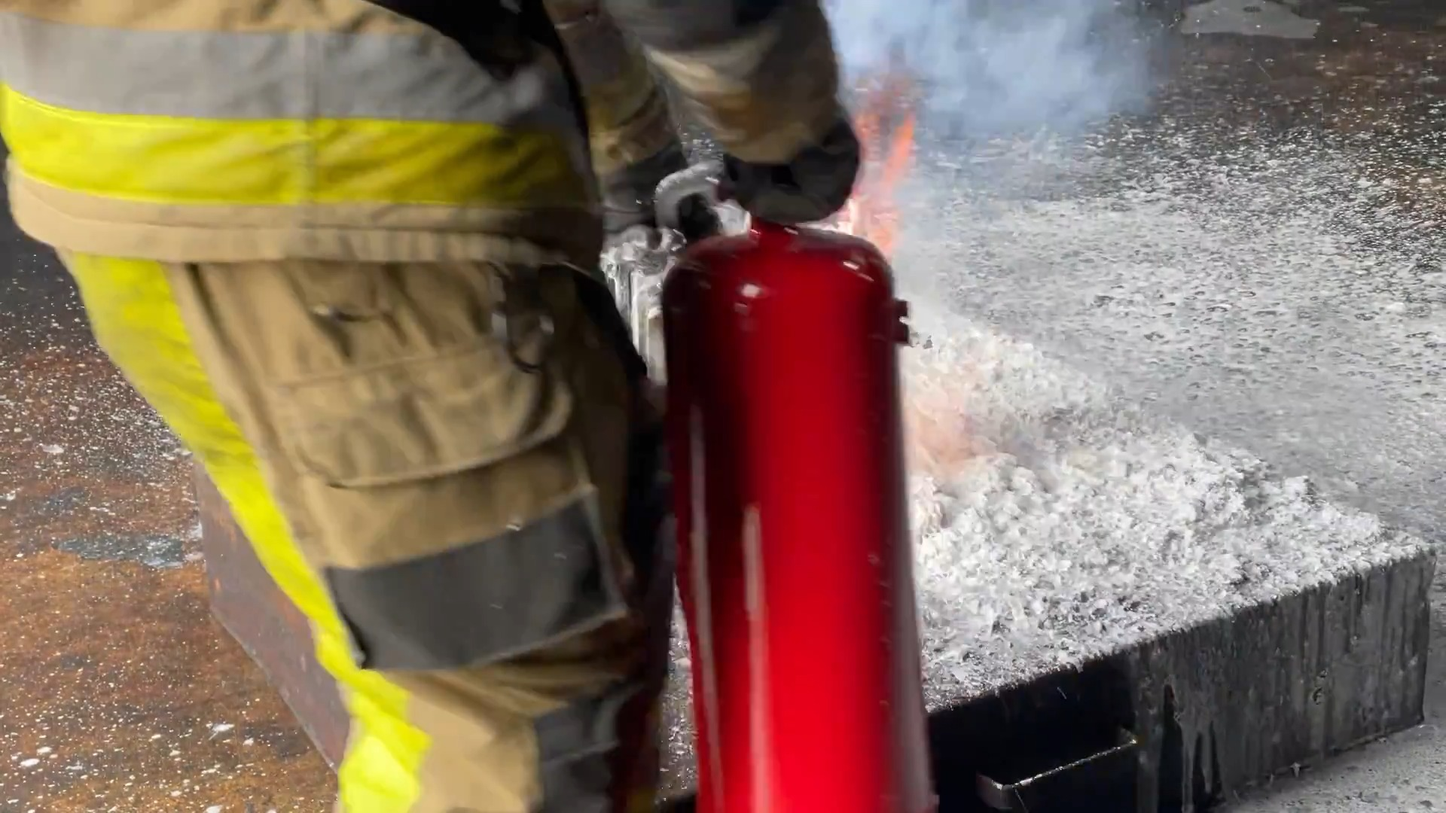fire: (828, 72, 920, 256)
smoke: (822, 0, 1140, 172)
